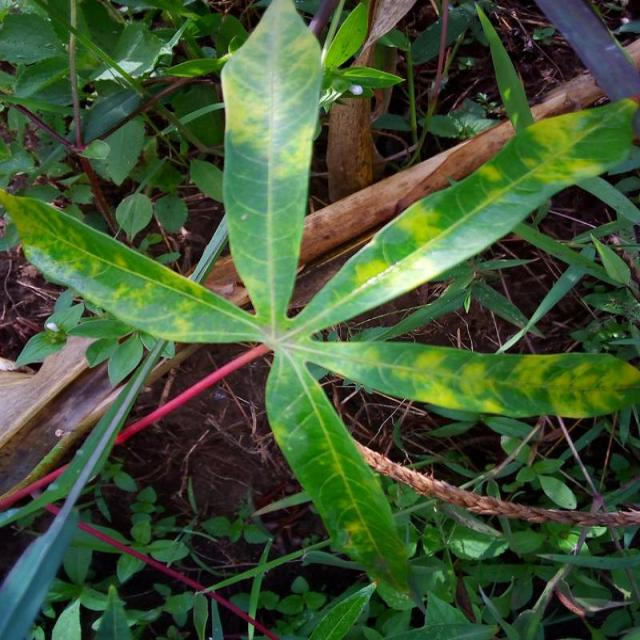cassava leaf: (1, 0, 638, 609), (218, 0, 323, 327)
